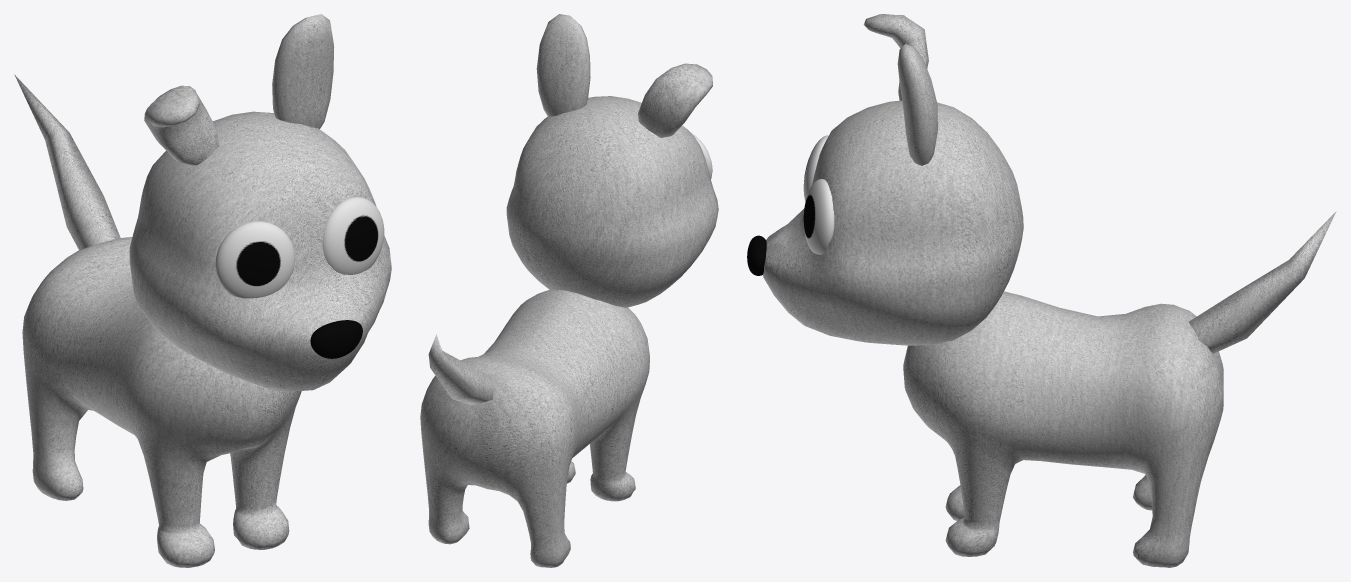
Rendered from Perro.fbx.
3 renders of one model, left to right at view 1: azimuth 30°, elevation 25°; view 2: azimuth 150°, elevation 25°; view 3: azimuth 270°, elevation 25°, orthographic. The views are drawn at different scales.
Visible parts, largest first — view 1: Prro; view 2: Prro; view 3: Prro.
Boxes of the visible parts, bbox=[...] form: Prro: bbox=[14, 14, 391, 567]; Prro: bbox=[420, 14, 718, 567]; Prro: bbox=[747, 14, 1336, 567].
Bounding box in the file's own units: 1.61 × 3.81 × 3.95.
1 material, 1 textured.
